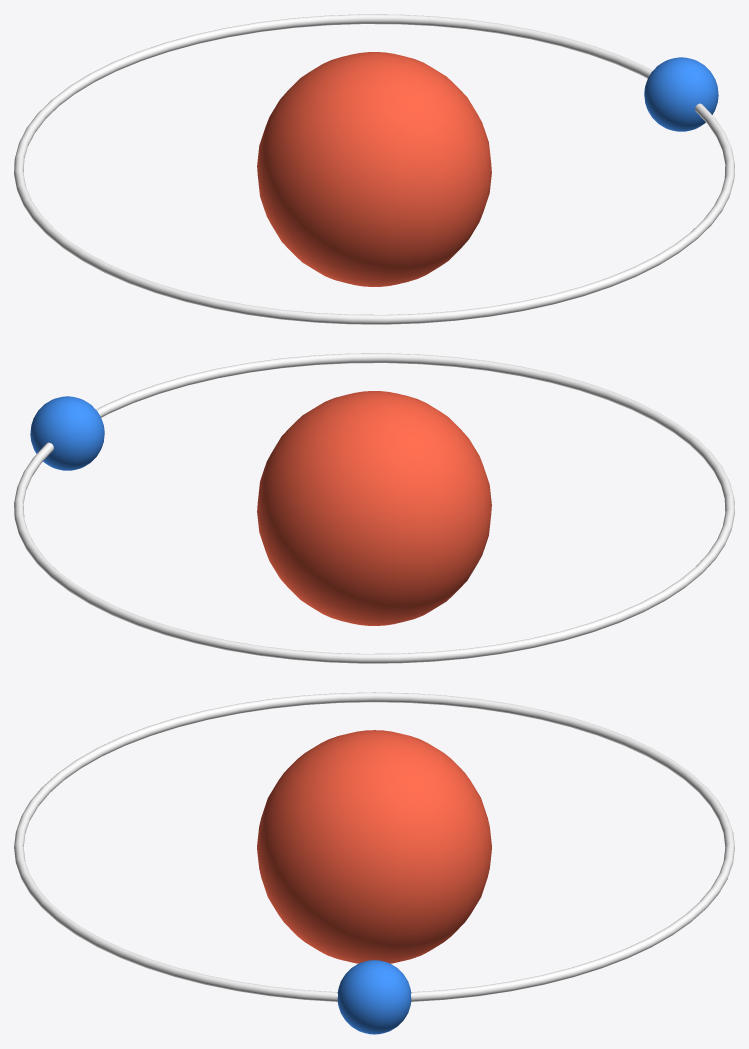
Rendered from 1vodorod.fbx.
The picture shows the model from 3 angles, top to bottom: view 1: azimuth 30°, elevation 25°; view 2: azimuth 150°, elevation 25°; view 3: azimuth 270°, elevation 25°; orthographic projection.
Visible parts, largest first — view 1: Sphere, Circle, Sphere.001; view 2: Sphere, Circle, Sphere.001; view 3: Sphere, Circle, Sphere.001.
Part boxes in pixels (left/top/right/bottom): Sphere: left=257, top=52, right=491, bottom=286; Circle: left=14, top=14, right=734, bottom=324; Sphere.001: left=644, top=57, right=718, bottom=131; Sphere: left=257, top=391, right=491, bottom=625; Circle: left=14, top=353, right=734, bottom=663; Sphere.001: left=30, top=396, right=104, bottom=470; Sphere: left=257, top=730, right=491, bottom=963; Circle: left=14, top=692, right=734, bottom=1001; Sphere.001: left=337, top=960, right=411, bottom=1034.
Bounding box in the file's own units: 639 × 200 × 613.
